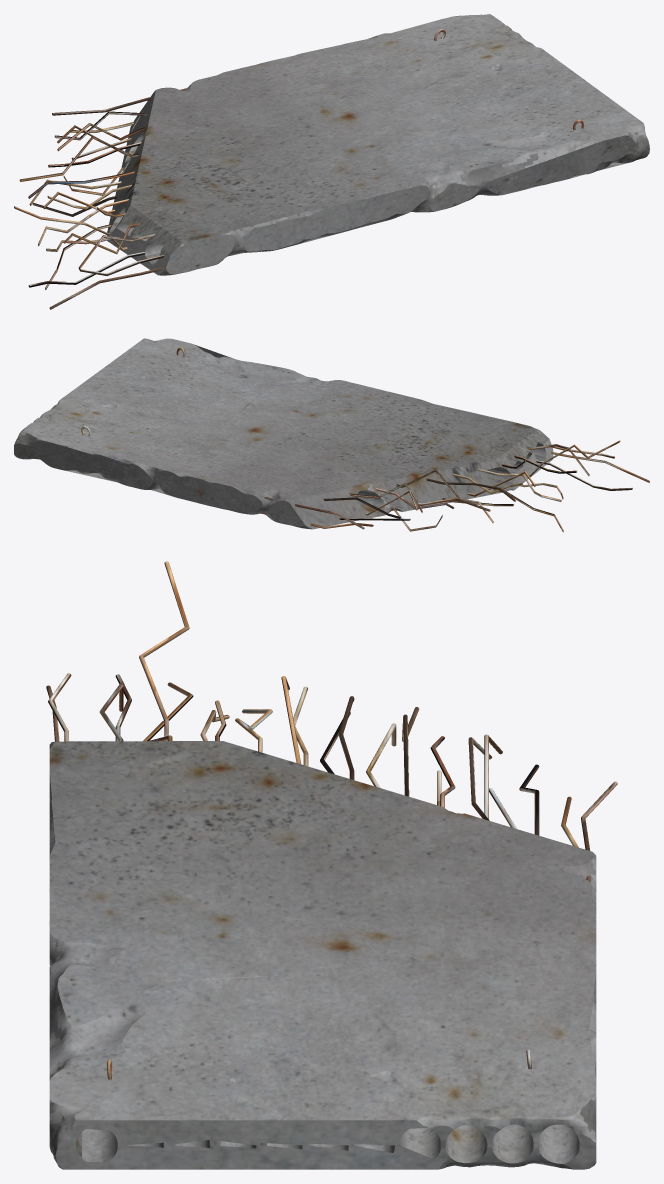
File: plita_bet_002_7.fbx
3 renders of one model, top to bottom at view 1: azimuth 30°, elevation 25°; view 2: azimuth 150°, elevation 25°; view 3: azimuth 270°, elevation 25°, orthographic. The views are drawn at different scales.
Visible parts, largest first — view 1: plita_bet_002_6; view 2: plita_bet_002_6; view 3: plita_bet_002_6.
Part boxes in pixels (left/top/right/bottom): plita_bet_002_6: left=14, top=14, right=649, bottom=309; plita_bet_002_6: left=14, top=338, right=649, bottom=532; plita_bet_002_6: left=46, top=561, right=617, bottom=1169.
Size of the model in its own units: 505 by 88.02 by 251.
Materials: 2 (2 with a texture image).
